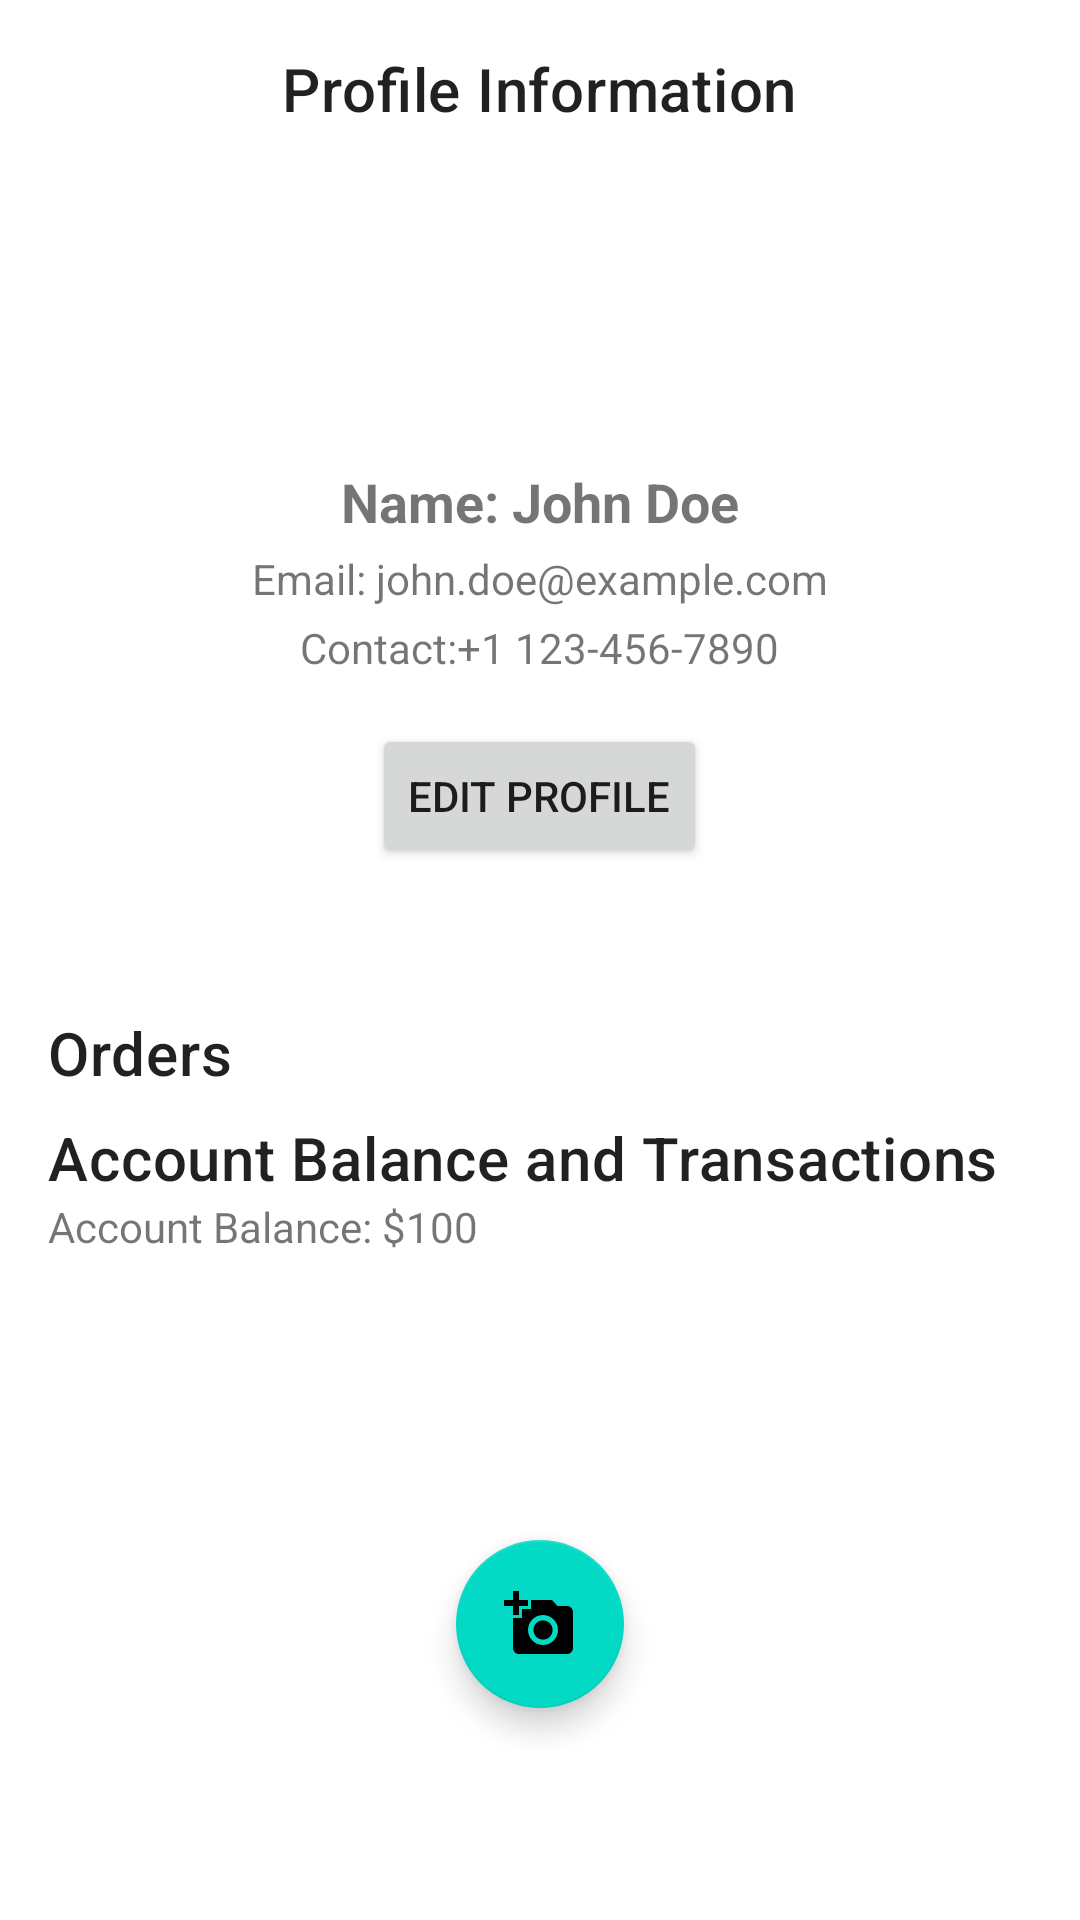

Where to tap for icons on this 1080px x 1920px app screen, as (x=x, y=y):
add photo: (x=540, y=1624)
